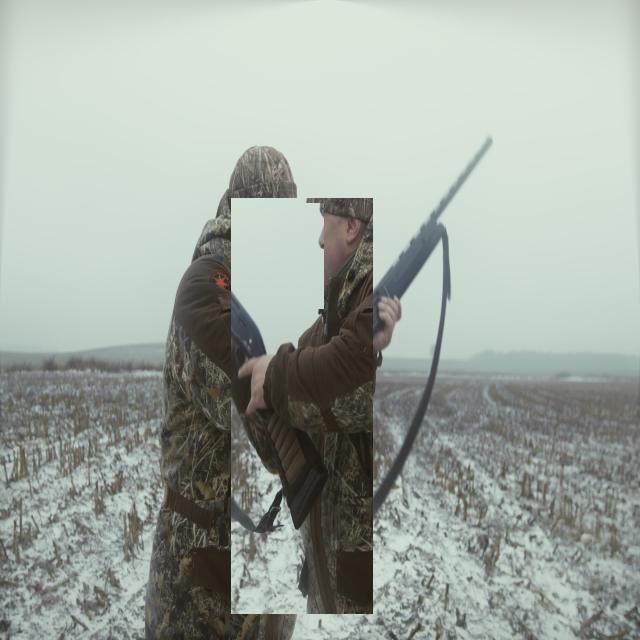poacher: (231, 198, 373, 614)
weapon: (294, 203, 324, 309)
